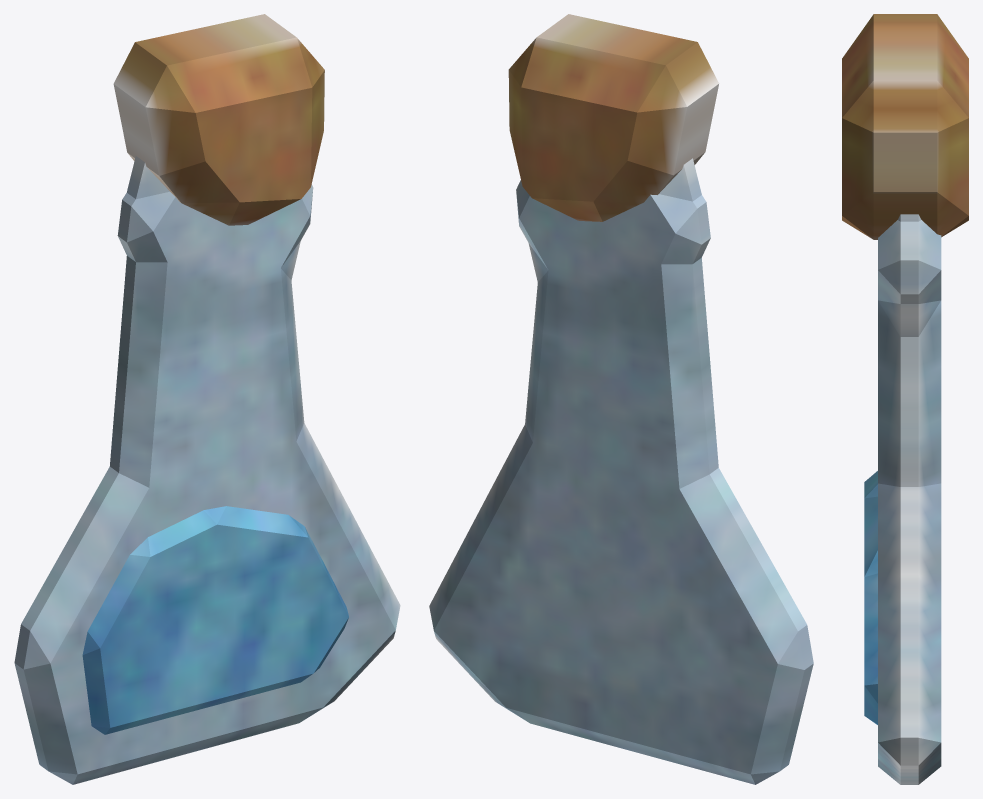
File: bluepotion.fbx
The picture shows the model from 3 angles, left to right: view 1: azimuth 30°, elevation 25°; view 2: azimuth 150°, elevation 25°; view 3: azimuth 270°, elevation 25°; orthographic projection.
Parts seen in each view (by area): view 1: blå, drink, kork; view 2: blå, kork; view 3: blå, kork, drink.
Part boxes in pixels (<box>): blå: <box>14,156,400,784</box>; drink: <box>82,506,348,734</box>; kork: <box>113,14,324,225</box>; blå: <box>429,158,813,784</box>; kork: <box>508,14,719,221</box>; blå: <box>878,214,941,784</box>; kork: <box>842,14,968,239</box>; drink: <box>864,471,877,724</box>.
Size of the model in its own units: 33.54 by 60.34 by 9.86.
